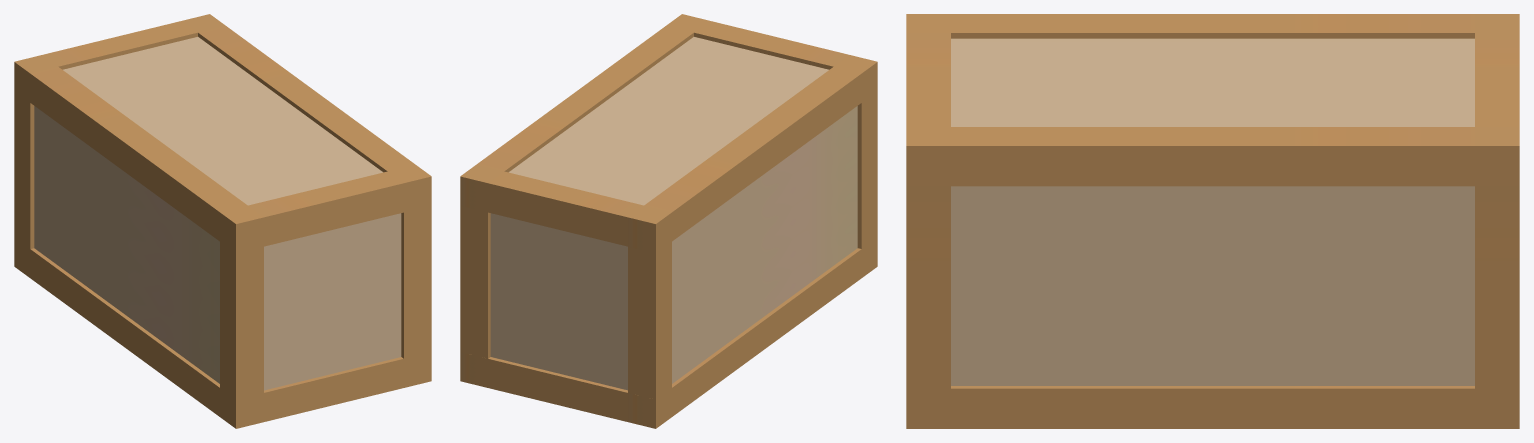
File: BoxLarge.fbx
3 views of the same model, side by side, from view 1: azimuth 30°, elevation 25°; view 2: azimuth 150°, elevation 25°; view 3: azimuth 270°, elevation 25° (orthographic). The views are drawn at different scales.
Parts seen in each view (by area): view 1: CubeOut, CubeIn; view 2: CubeOut, CubeIn; view 3: CubeOut, CubeIn.
Part boxes in pixels (x1,y1,x2,y2): CubeOut: [34, 37, 401, 390]; CubeIn: [14, 14, 431, 428]; CubeOut: [490, 37, 857, 390]; CubeIn: [460, 14, 877, 428]; CubeOut: [951, 38, 1474, 385]; CubeIn: [906, 14, 1519, 428].
Bounding box in the file's own units: 140 × 140 × 275.
